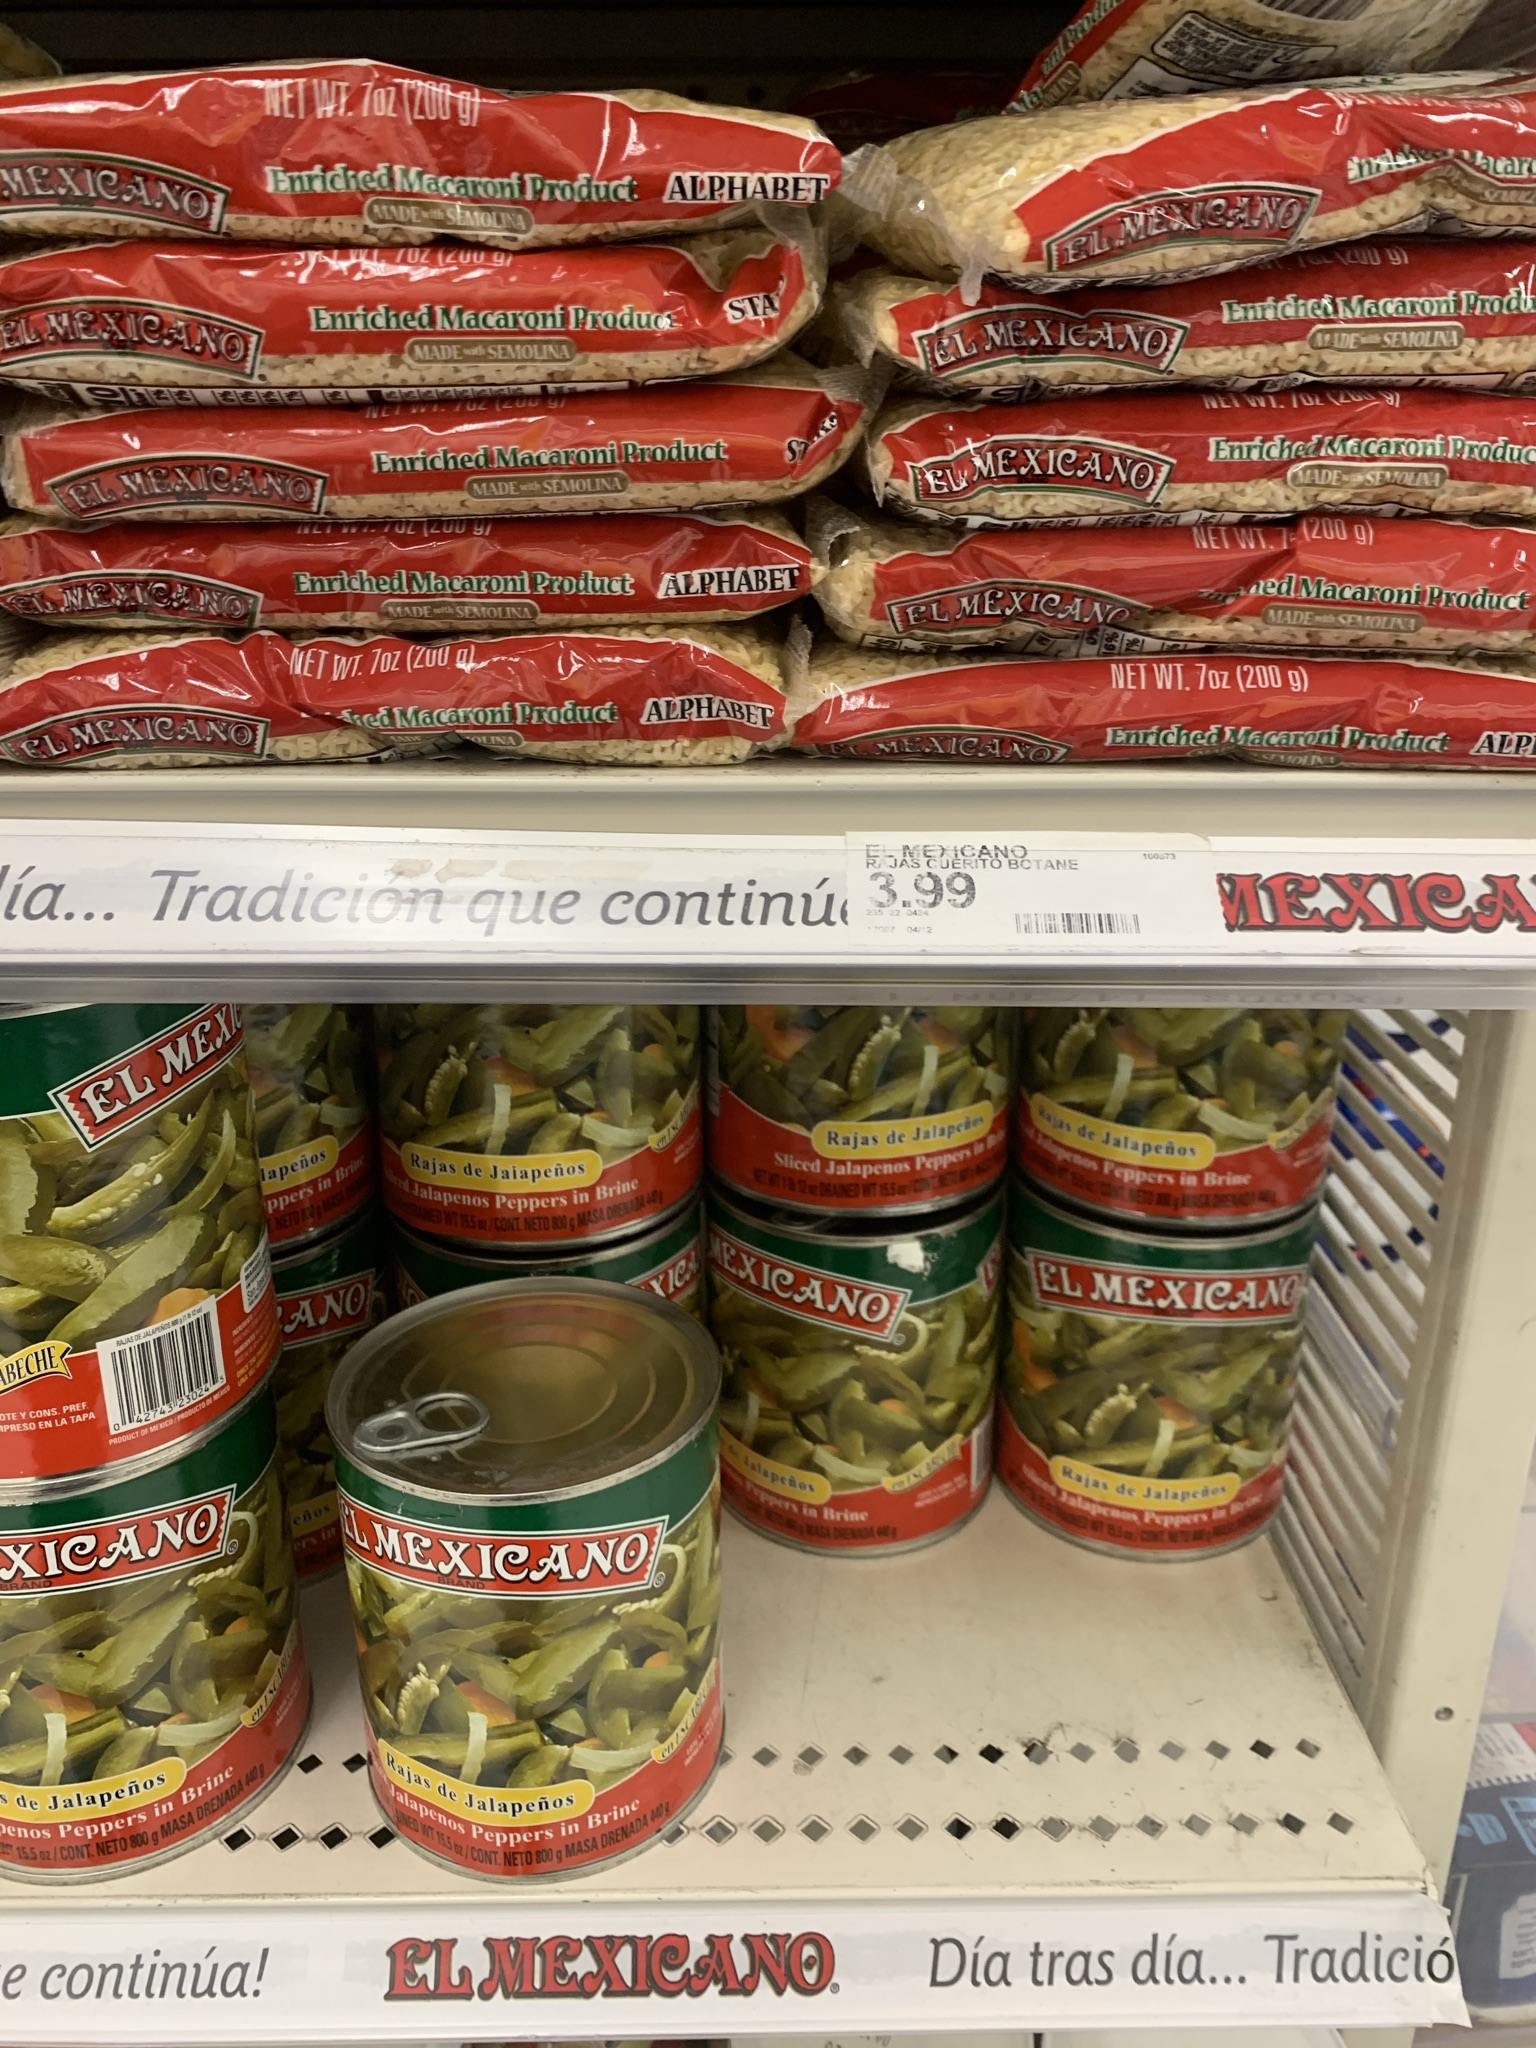can: (363, 1388, 702, 1793), (2, 1022, 236, 1413), (5, 1508, 245, 1832), (1033, 1245, 1291, 1521), (741, 1247, 991, 1516)
